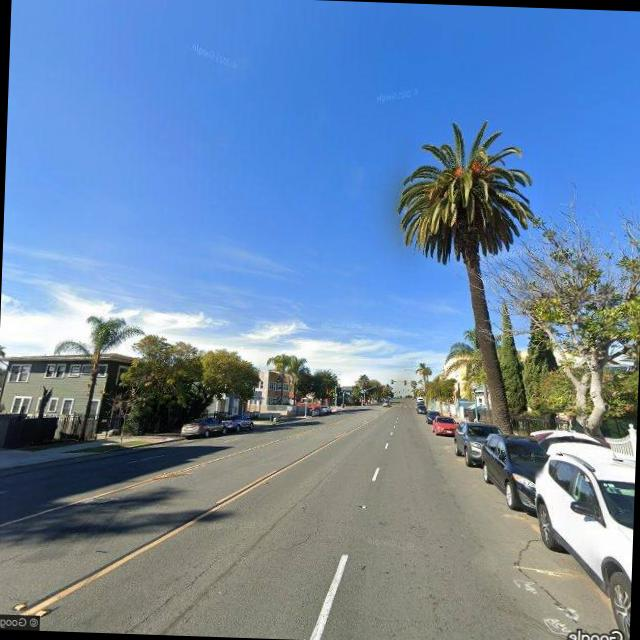crack: (110, 552, 225, 636), (286, 512, 326, 552)
